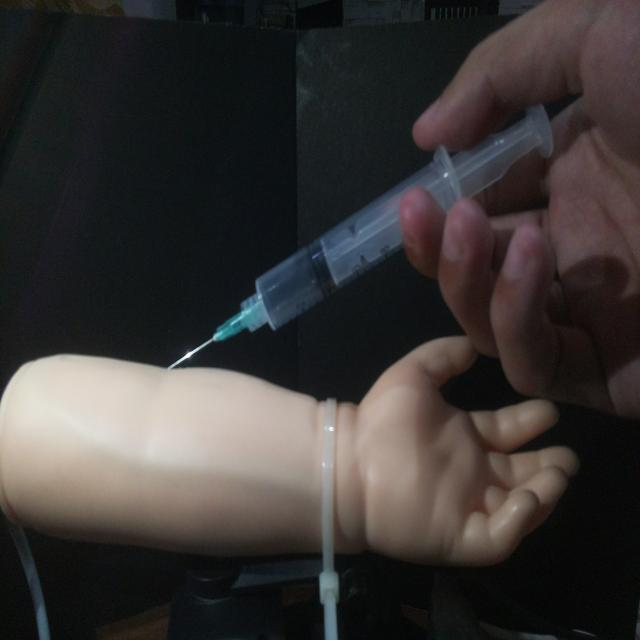23deg: (163, 96, 559, 372)
